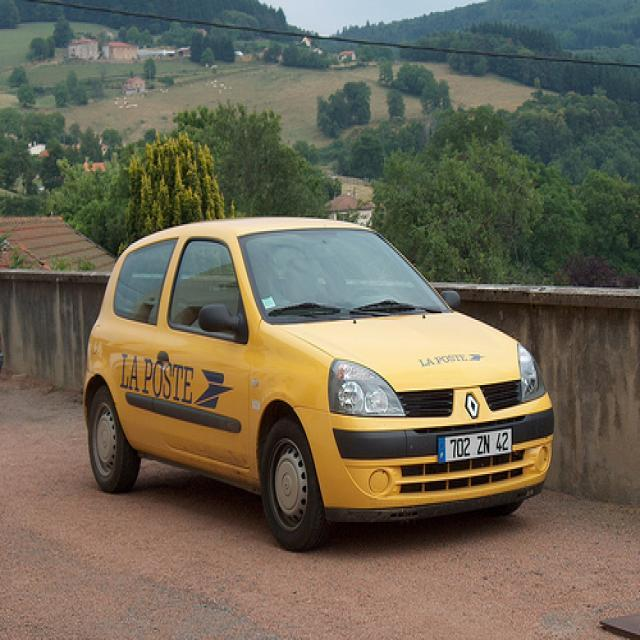Car: (78, 188, 570, 562)
